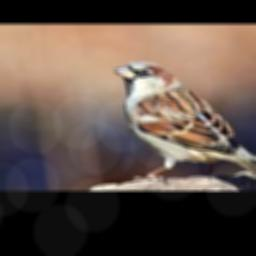Sparrow: (114, 61, 256, 188)
